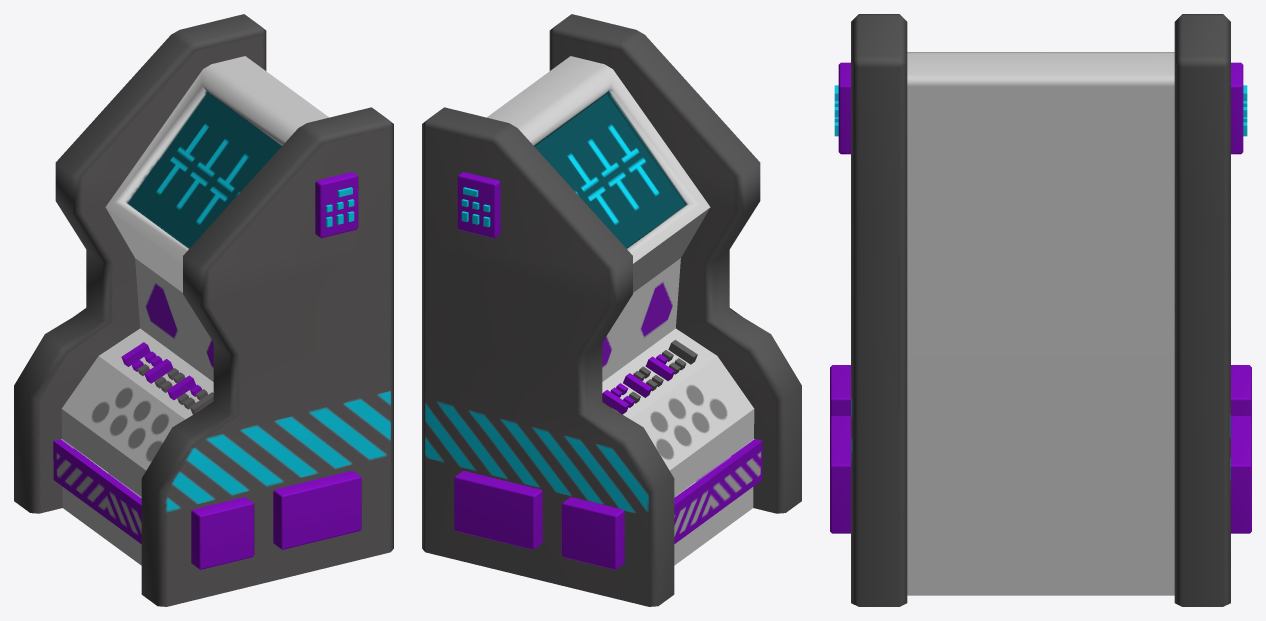
The model's file is SM_Props_08.fbx.
3 renders of one model, left to right at view 1: azimuth 30°, elevation 25°; view 2: azimuth 150°, elevation 25°; view 3: azimuth 270°, elevation 25°, orthographic. The views are drawn at different scales.
Visible parts, largest first — view 1: SM_Props_08; view 2: SM_Props_08; view 3: SM_Props_08.
Part boxes in pixels (<box>): SM_Props_08: <box>14,14,393,606</box>; SM_Props_08: <box>422,14,801,606</box>; SM_Props_08: <box>830,14,1251,606</box>.
Size of the model in its own units: 60.97 by 74.26 by 106.
Materials: 1 (1 with a texture image).
